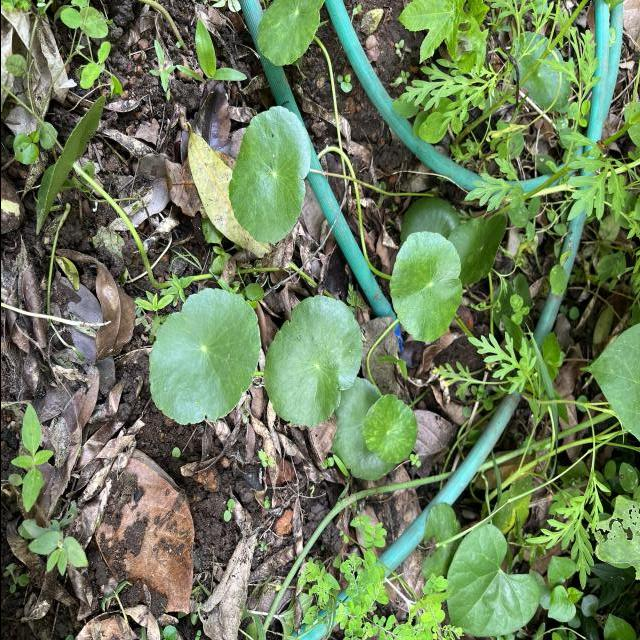Bacopa monnieri: (145, 286, 262, 427), (260, 294, 364, 429), (225, 105, 312, 248), (387, 230, 463, 342), (254, 0, 326, 68), (443, 213, 508, 288), (361, 394, 418, 464)
